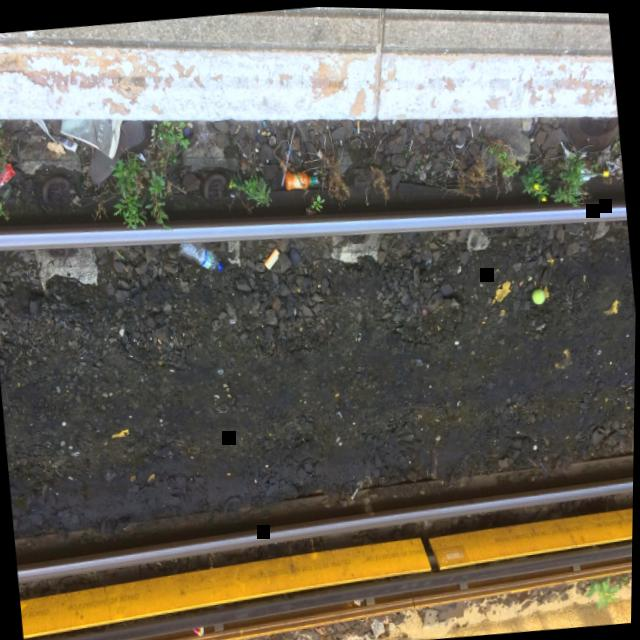Cigarette: (356, 118, 359, 130)
Clear plastic bottle: (178, 241, 223, 269), (284, 170, 317, 188)
Glass bottle: (578, 163, 608, 177)
Normal paper: (59, 118, 121, 158), (31, 118, 77, 151), (365, 616, 385, 639)
Other plastic: (0, 162, 15, 186)
Other plastic bottle: (264, 246, 279, 267), (531, 285, 545, 300)
Plastic straw: (281, 125, 294, 183)
Pop tab: (230, 317, 235, 321)
Shoe: (89, 118, 151, 183)
Unlabeled litter: (193, 625, 204, 634), (354, 596, 364, 603), (421, 304, 427, 312), (261, 118, 266, 125), (286, 146, 291, 151)
